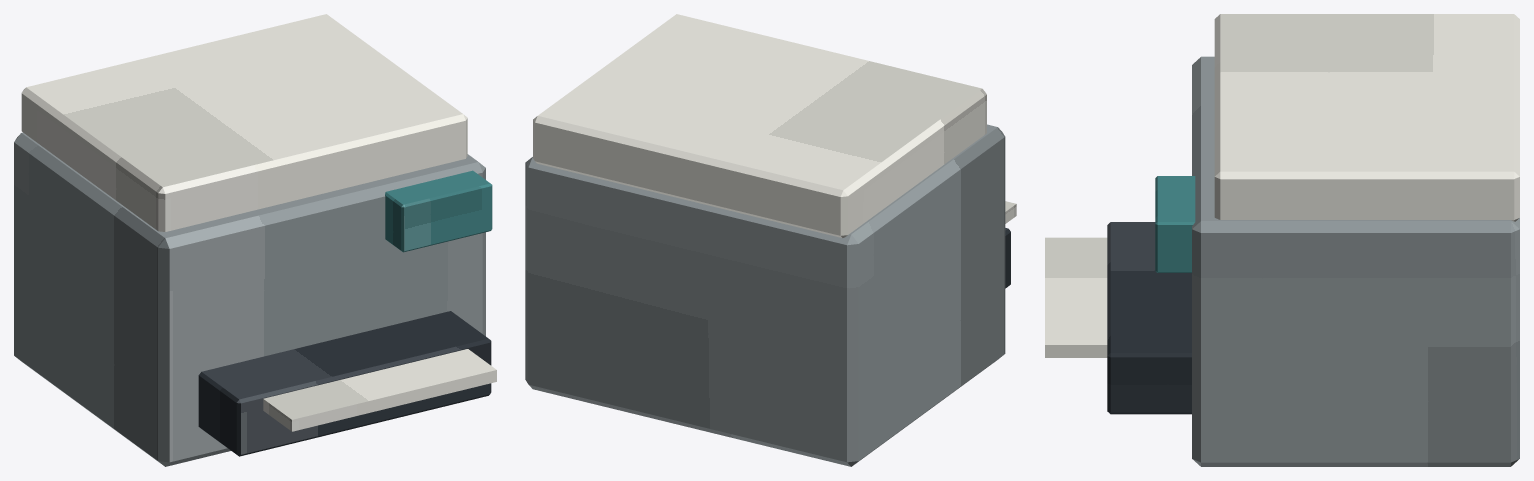
Rendered from office_printer.glb.
3 renders of one model, left to right at view 1: azimuth 30°, elevation 25°; view 2: azimuth 150°, elevation 25°; view 3: azimuth 270°, elevation 25°, orthographic. The views are drawn at different scales.
Visible parts, largest first — view 1: PrinterBody, ScannerLid, PaperTray, Paper, ControlPanel; view 2: PrinterBody, ScannerLid; view 3: PrinterBody, ScannerLid, PaperTray, Paper, ControlPanel.
Boxes of the visible parts, x1,y1,x2,y2 form: PrinterBody: (14,132,485,466); ScannerLid: (21,14,467,231); PaperTray: (198,311,491,456); Paper: (263,349,496,431); ControlPanel: (385,170,492,252); PrinterBody: (525,124,1005,466); ScannerLid: (533,14,986,237); PrinterBody: (1192,56,1519,466); ScannerLid: (1214,14,1519,221); PaperTray: (1107,222,1191,414); Paper: (1045,237,1107,357); ControlPanel: (1155,176,1195,272).
Bounding box in the file's own units: 0.72 × 0.57 × 0.84.
Materials: 1 (1 with a texture image).
